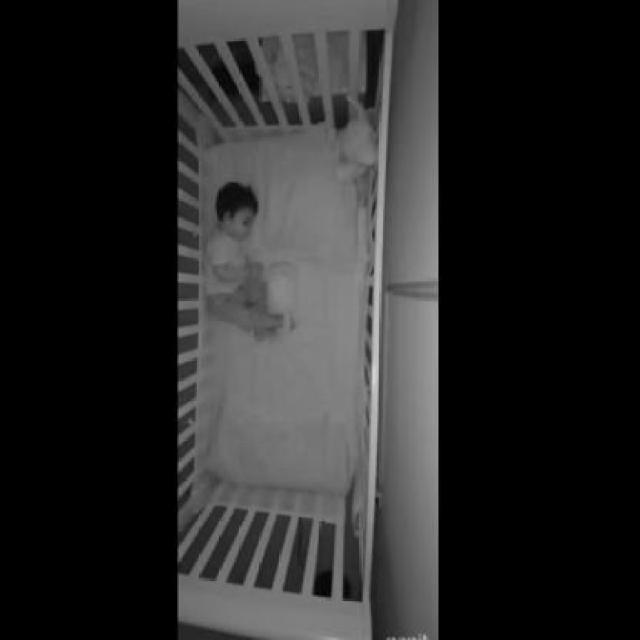child: (204, 181, 296, 341)
